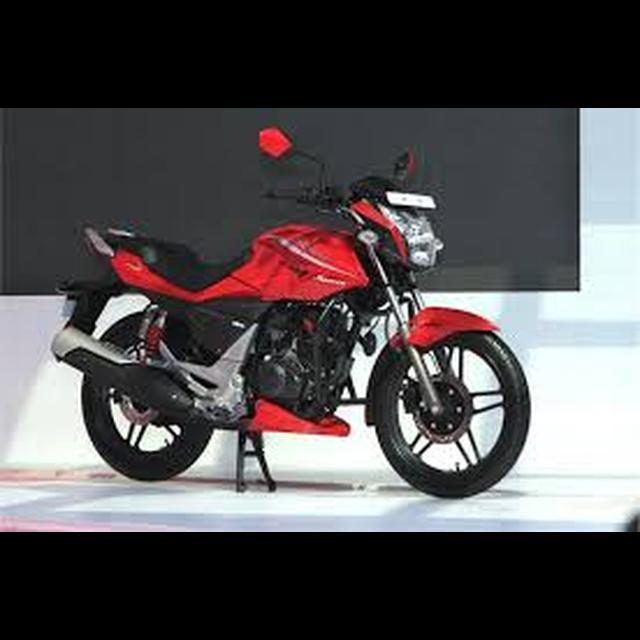motorcycle: (49, 121, 536, 504)
